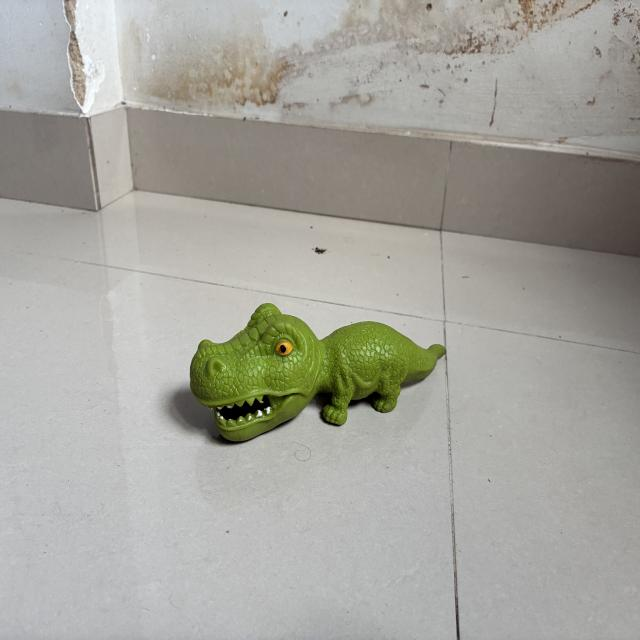dinosaur: (167, 296, 448, 450)
